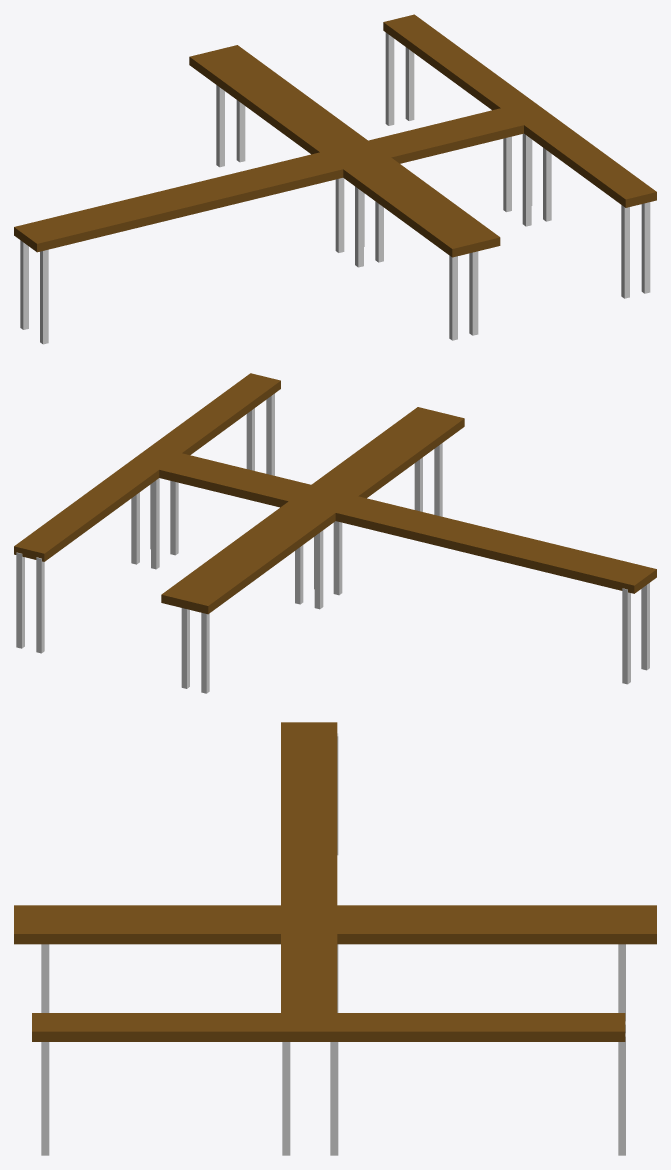
File: SaintMary'sIslandLakehouseJetty.fbx
The picture shows the model from 3 angles, top to bottom: view 1: azimuth 30°, elevation 25°; view 2: azimuth 150°, elevation 25°; view 3: azimuth 270°, elevation 25°; orthographic projection. The views are drawn at different scales.
Parts seen in each view (by area): view 1: Jetty, JettySupport, JettySupport.002, JettySupport.006, JettySupport.016, JettySupport.013, JettySupport.001, JettySupport.017, JettySupport.012, JettySupport.008, JettySupport.015, JettySupport.007 (+5 smaller); view 2: Jetty, JettySupport.007, JettySupport.006, JettySupport.017, JettySupport.005, JettySupport.016, JettySupport.008, JettySupport.011, JettySupport.015, JettySupport.014, JettySupport.001, JettySupport.002 (+4 smaller); view 3: Jetty, JettySupport, JettySupport.003, JettySupport.004, JettySupport.007, JettySupport.013.
Boxes of the visible parts, left/top/right/bottom form: Jetty: left=14, top=14, right=656, bottom=257; JettySupport: left=641, top=202, right=650, bottom=293; JettySupport.002: left=522, top=133, right=531, bottom=226; JettySupport.006: left=385, top=32, right=394, bottom=125; JettySupport.016: left=40, top=249, right=48, bottom=344; JettySupport.013: left=469, top=251, right=478, bottom=335; JettySupport.001: left=621, top=205, right=629, bottom=298; JettySupport.017: left=20, top=240, right=28, bottom=329; JettySupport.012: left=449, top=255, right=457, bottom=340; JettySupport.008: left=335, top=178, right=344, bottom=252; JettySupport.015: left=216, top=85, right=224, bottom=167; JettySupport.007: left=405, top=47, right=414, bottom=120; Jetty: left=14, top=373, right=656, bottom=614; JettySupport.007: left=16, top=552, right=24, bottom=648; JettySupport.006: left=36, top=557, right=44, bottom=653; JettySupport.017: left=622, top=588, right=630, bottom=684; JettySupport.005: left=151, top=478, right=159, bottom=569; JettySupport.016: left=641, top=583, right=649, bottom=670; JettySupport.008: left=314, top=530, right=323, bottom=609; JettySupport.011: left=333, top=521, right=342, bottom=595; JettySupport.015: left=201, top=612, right=209, bottom=693; JettySupport.014: left=181, top=608, right=189, bottom=688; JettySupport.001: left=266, top=393, right=274, bottom=475; JettySupport.002: left=170, top=481, right=178, bottom=555; Jetty: left=14, top=722, right=656, bottom=1041; JettySupport: left=41, top=1042, right=49, bottom=1155; JettySupport.003: left=282, top=1042, right=290, bottom=1155; JettySupport.004: left=330, top=1042, right=338, bottom=1155; JettySupport.007: left=618, top=1033, right=625, bottom=1155; JettySupport.013: left=41, top=944, right=49, bottom=1012.
Bounding box in the file's own units: 2585 × 489 × 2272.
